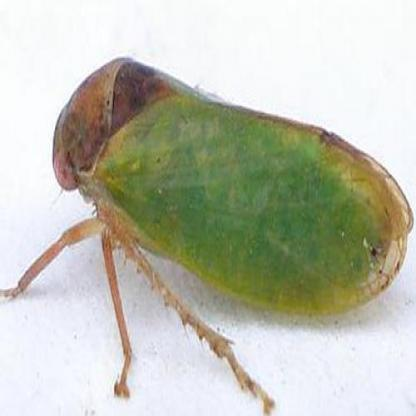green-leafhopper: (40, 56, 410, 336)
